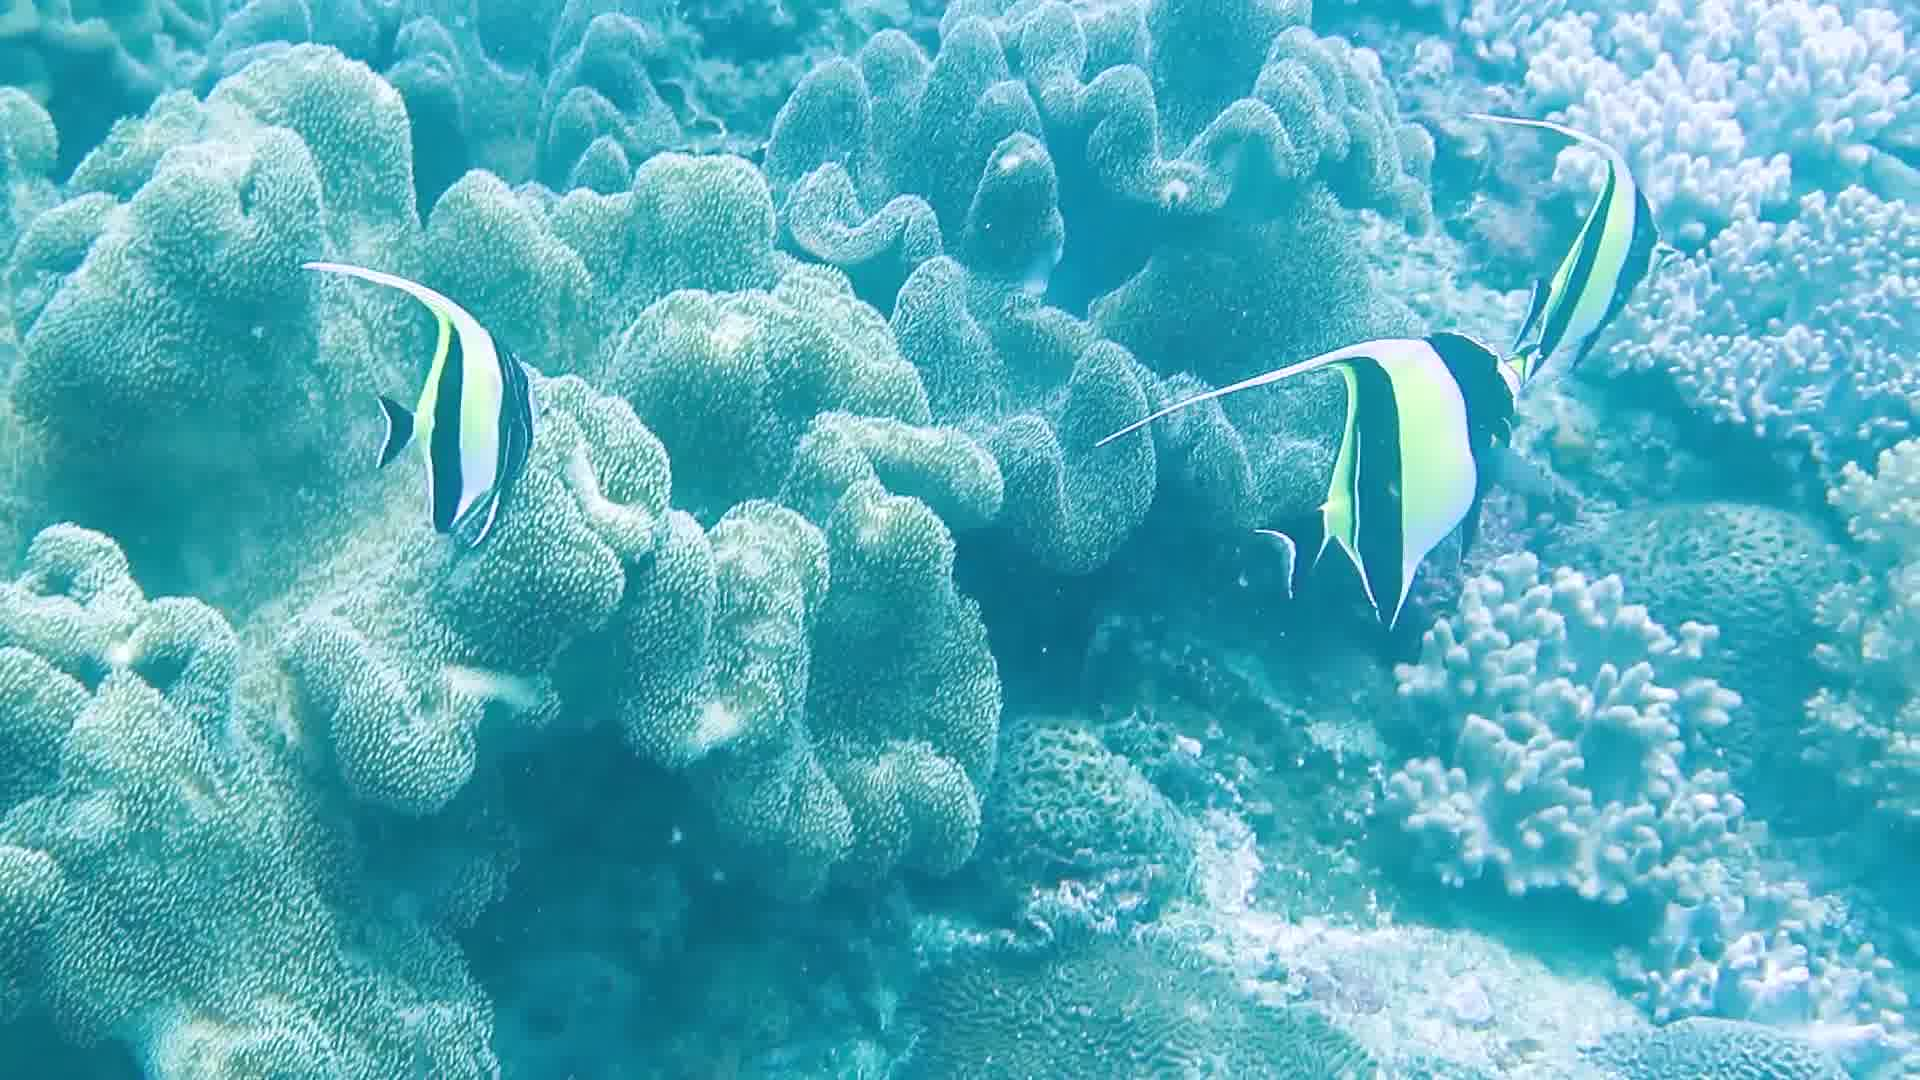Zanclus cornutus: (1269, 332, 1520, 647), (1470, 107, 1693, 381), (359, 287, 582, 560)
